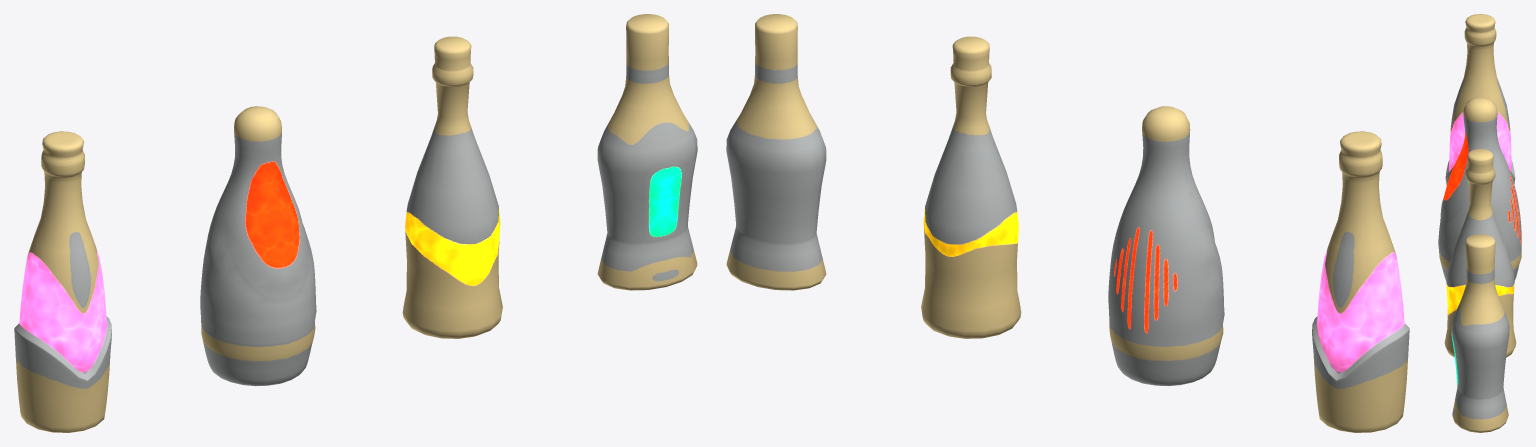
The model's file is BarBottles03_1.FBX.
3 views of the same model, side by side, from view 1: azimuth 30°, elevation 25°; view 2: azimuth 150°, elevation 25°; view 3: azimuth 270°, elevation 25° (orthographic). The views are drawn at different scales.
Visible parts, largest first — view 1: BarBottles03_1; view 2: BarBottles03_1; view 3: BarBottles03_1.
Part boxes in pixels (<box>): BarBottles03_1: <box>14,14,697,432</box>; BarBottles03_1: <box>726,14,1409,432</box>; BarBottles03_1: <box>1438,14,1521,432</box>.
Size of what is drawn, in the model's own units: 0.8597 by 0.34 by 0.1305.
